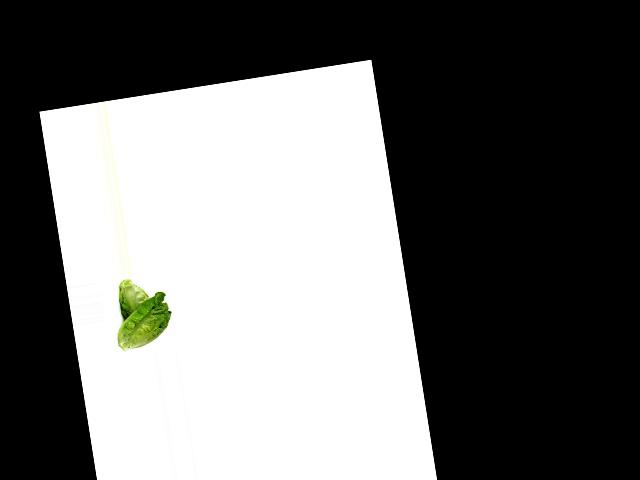lettuce: (112, 274, 153, 320)
